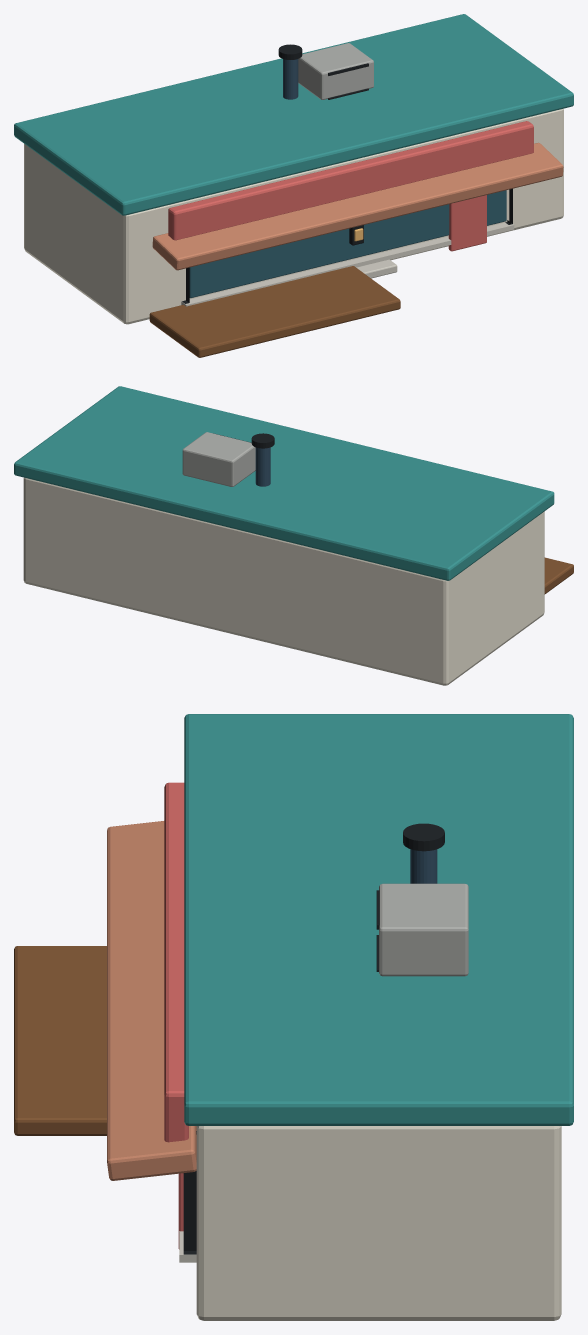
The model's file is COM_LOW_2x1_004.glb.
3 renders of one model, top to bottom at view 1: azimuth 30°, elevation 25°; view 2: azimuth 150°, elevation 25°; view 3: azimuth 270°, elevation 25°, orthographic. The views are drawn at different scales.
Visible parts, largest first — view 1: COM_LOW_2x1_004_Visual; view 2: COM_LOW_2x1_004_Visual; view 3: COM_LOW_2x1_004_Visual.
Boxes of the visible parts, box(x1,y1,x2,y2) form: COM_LOW_2x1_004_Visual: box(14, 14, 573, 357); COM_LOW_2x1_004_Visual: box(14, 386, 573, 685); COM_LOW_2x1_004_Visual: box(14, 714, 573, 1320).
Size of what is drawn, in the model's own units: 3.75 by 1.38 by 2.27.
